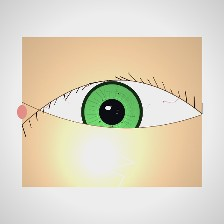foreign_body_visible: (53, 125, 83, 148)
